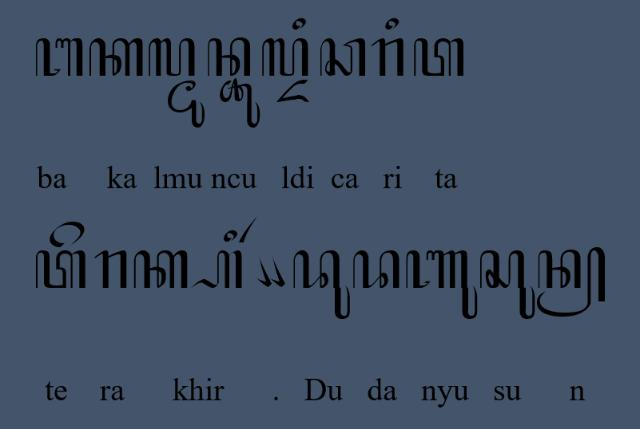-n: (536, 246, 608, 318)
_cu: (220, 78, 260, 128)
_d: (276, 79, 310, 106)
_h: (190, 251, 243, 291)
_mu: (167, 80, 206, 128)
_r1: (240, 216, 256, 244)
b: (34, 38, 84, 78)
c: (319, 38, 366, 76)
d: (352, 250, 401, 290)
du: (293, 250, 352, 321)
e: (48, 220, 86, 250)
i: (384, 16, 400, 32), (222, 228, 238, 244), (291, 17, 307, 31)
k: (88, 38, 144, 78), (133, 251, 189, 290)
kom: (268, 254, 286, 290), (254, 255, 272, 289)
l: (260, 38, 310, 78), (147, 37, 195, 77)
n: (206, 37, 252, 77)
nyu1: (404, 250, 478, 321)
r: (371, 38, 405, 78), (94, 250, 128, 290)
su: (480, 250, 536, 322)
t: (412, 36, 466, 78), (34, 249, 88, 291)
